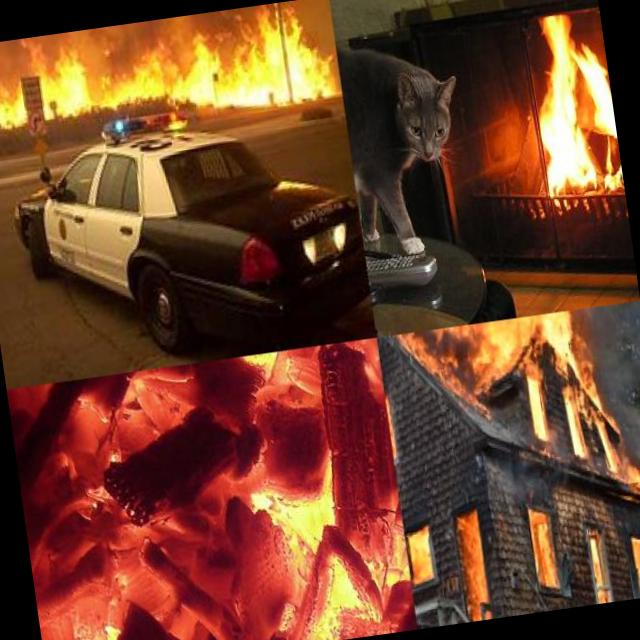fire: (73, 337, 418, 640), (0, 0, 335, 140), (384, 306, 616, 456), (515, 6, 627, 215), (454, 498, 498, 622), (526, 506, 560, 590), (616, 459, 640, 510), (628, 530, 640, 598)
smoke: (611, 392, 640, 462)
